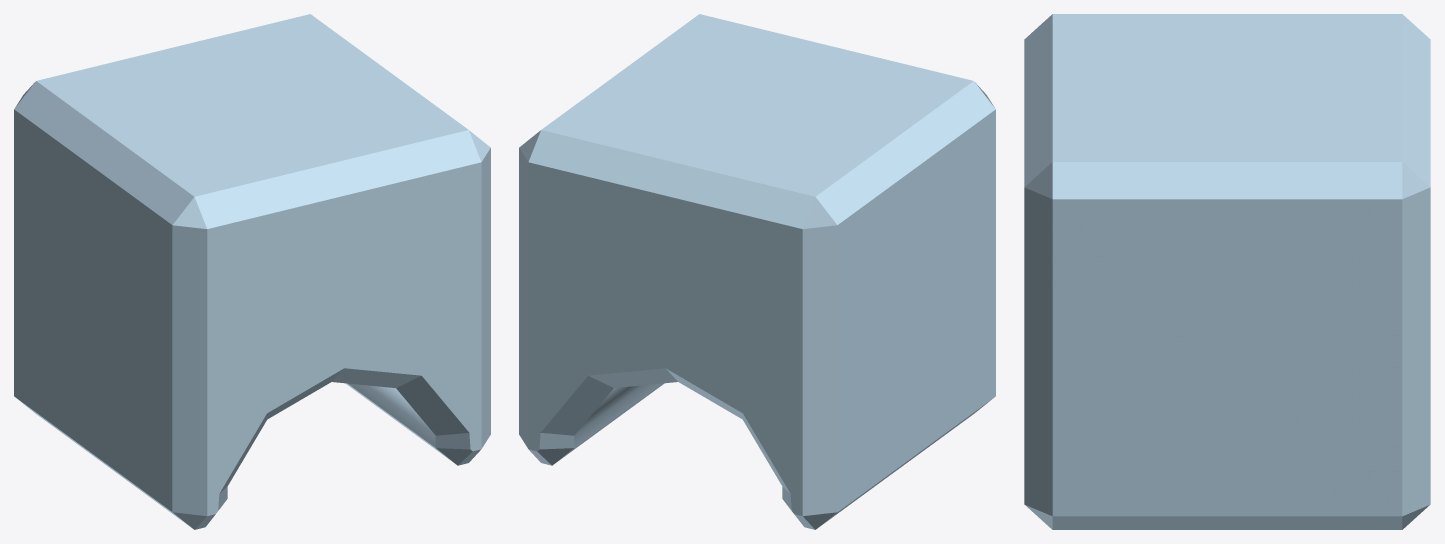
The model's file is R4B_Arch.glb.
3 renders of one model, left to right at view 1: azimuth 30°, elevation 25°; view 2: azimuth 150°, elevation 25°; view 3: azimuth 270°, elevation 25°, orthographic. The views are drawn at different scales.
Parts seen in each view (by area): view 1: R4B_Arch; view 2: R4B_Arch; view 3: R4B_Arch.
Boxes of the visible parts, bbox=[...] form: R4B_Arch: bbox=[14, 14, 490, 529]; R4B_Arch: bbox=[519, 14, 995, 529]; R4B_Arch: bbox=[1024, 14, 1430, 529].
Bounding box in the file's own units: 0.52 × 0.52 × 0.52.
